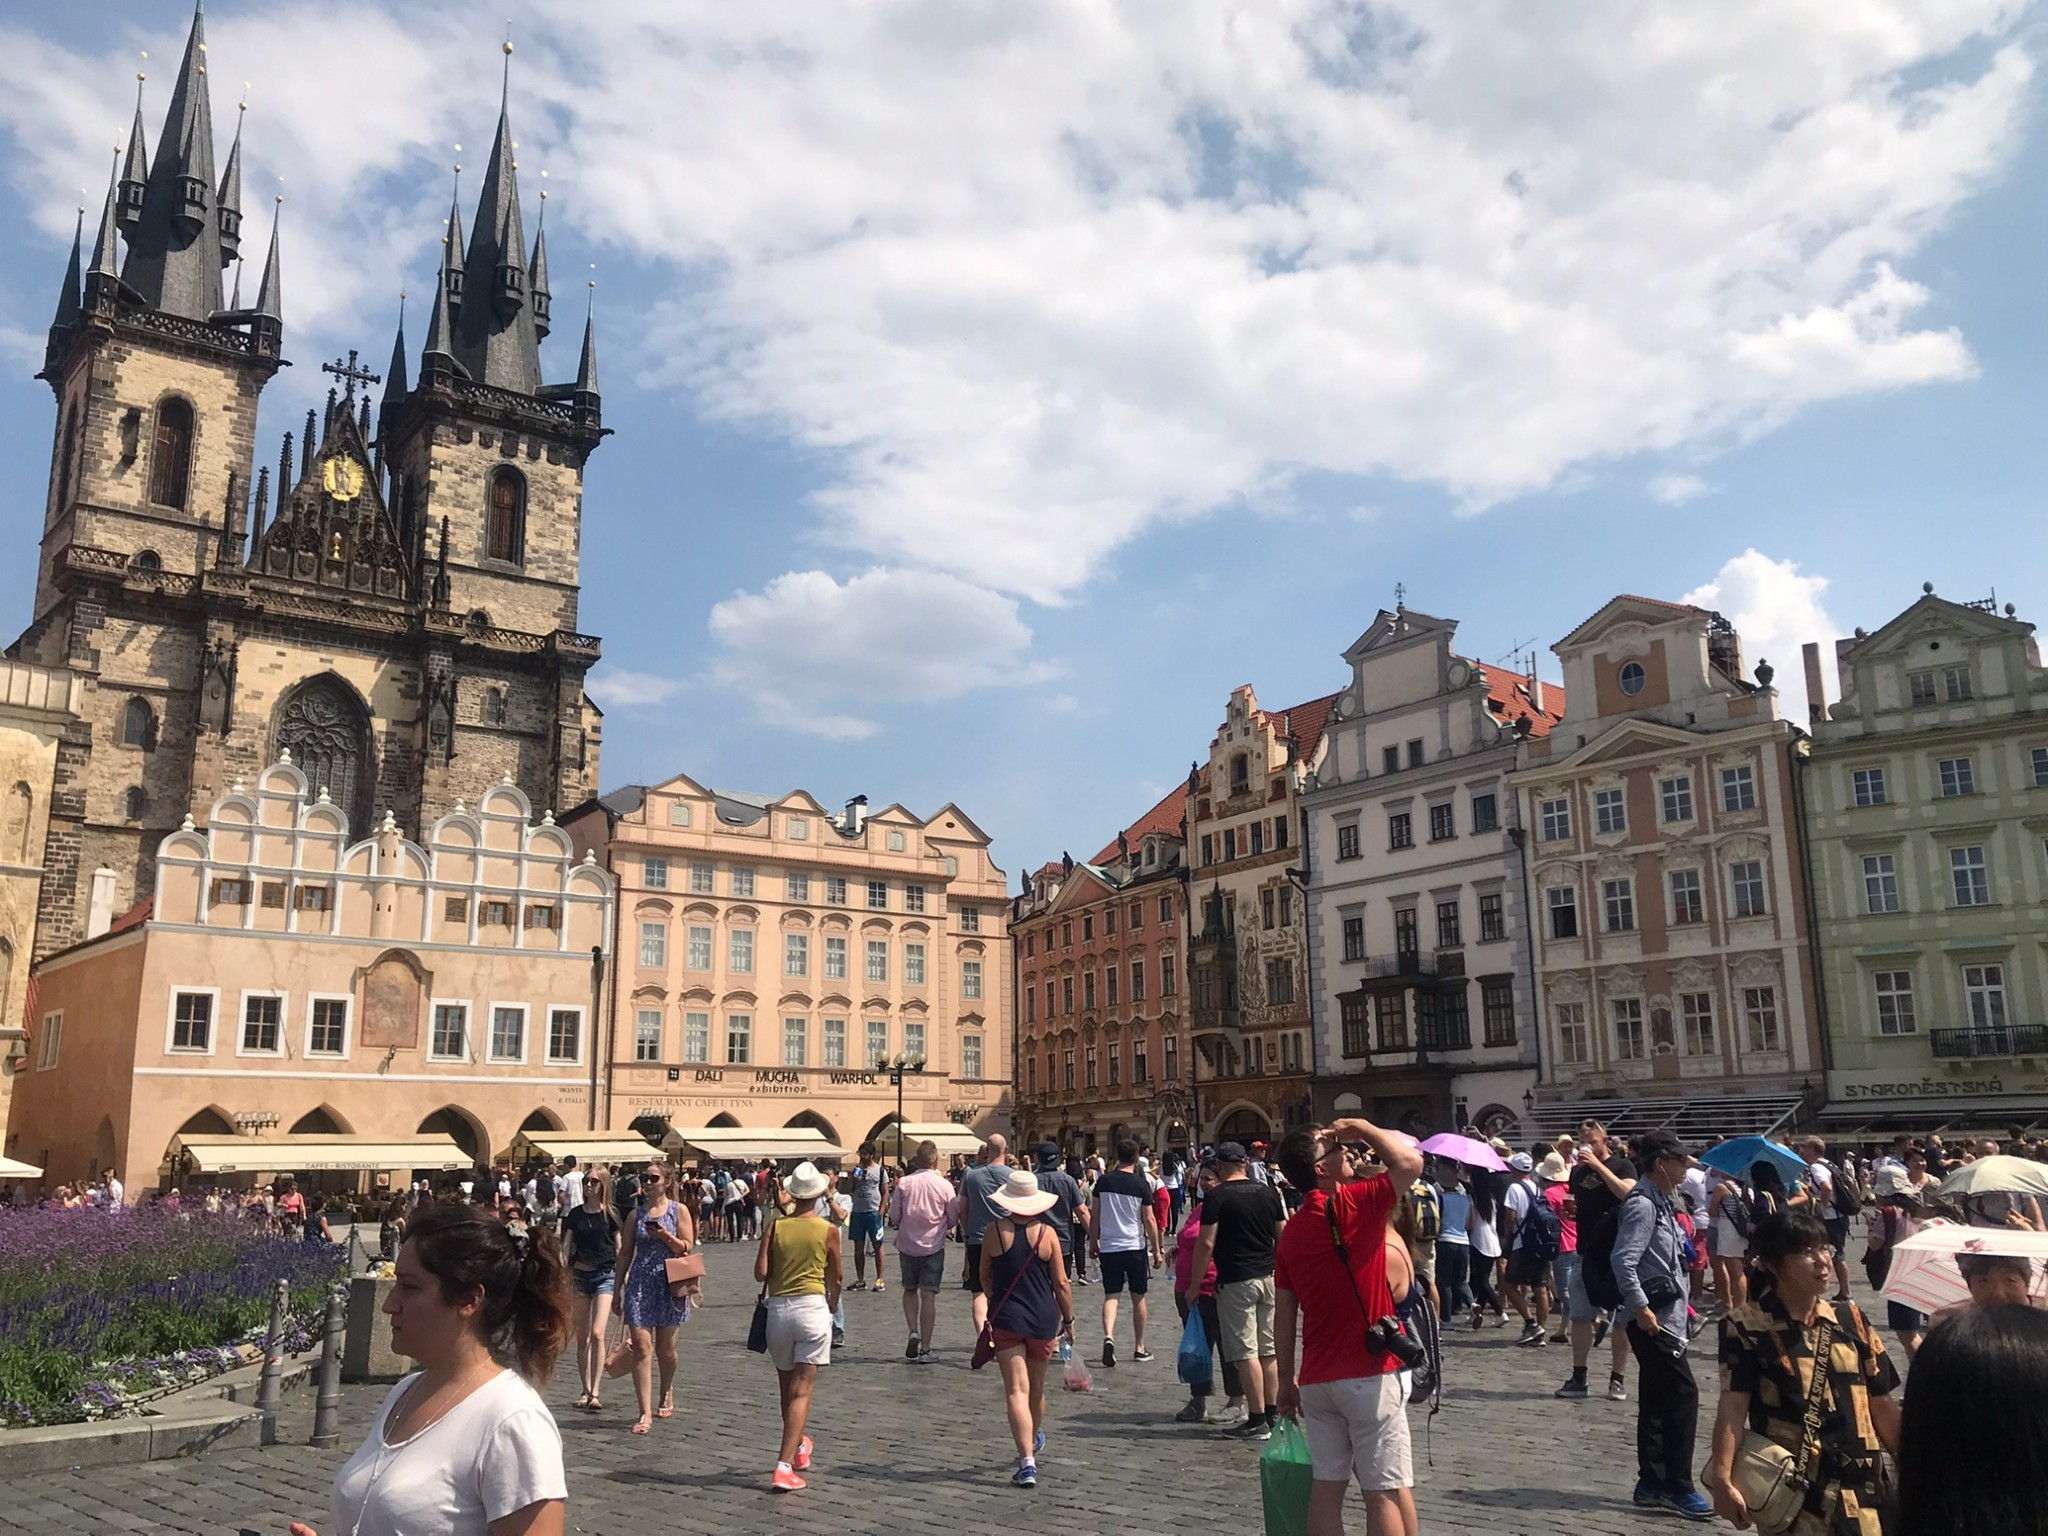people: (334, 1202, 578, 1536), (1263, 1122, 1449, 1536), (1904, 1166, 2048, 1536), (1749, 1205, 1890, 1536), (1622, 1143, 1725, 1522), (990, 1166, 1081, 1499), (752, 1169, 840, 1496), (1554, 1108, 1646, 1390), (1216, 1143, 1302, 1428), (634, 1152, 699, 1452), (1178, 1158, 1240, 1425), (957, 1122, 1025, 1355), (566, 1149, 628, 1410), (1102, 1140, 1166, 1381), (893, 1134, 949, 1363), (1775, 1131, 1857, 1269), (1499, 1140, 1554, 1346), (1454, 1143, 1513, 1328), (1428, 1143, 1484, 1319), (849, 1131, 902, 1305)
